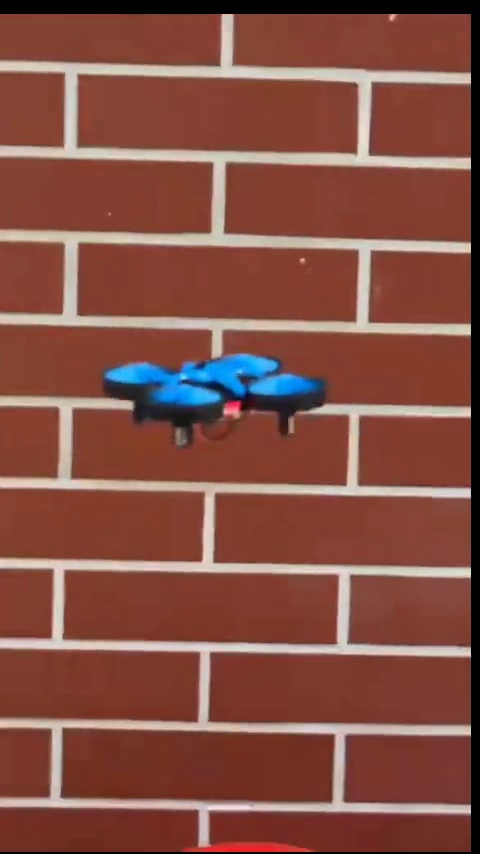drone: (105, 352, 328, 450)
